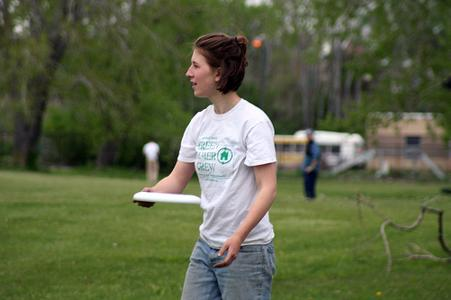person: (132, 32, 279, 300)
